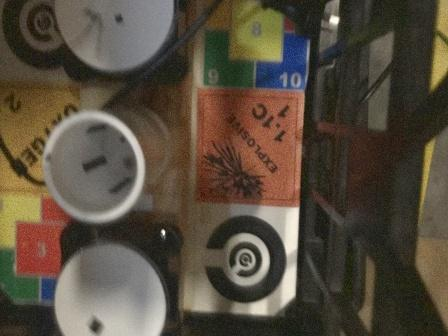explosive: (196, 88, 304, 209)
oxidizer: (1, 82, 83, 199)
